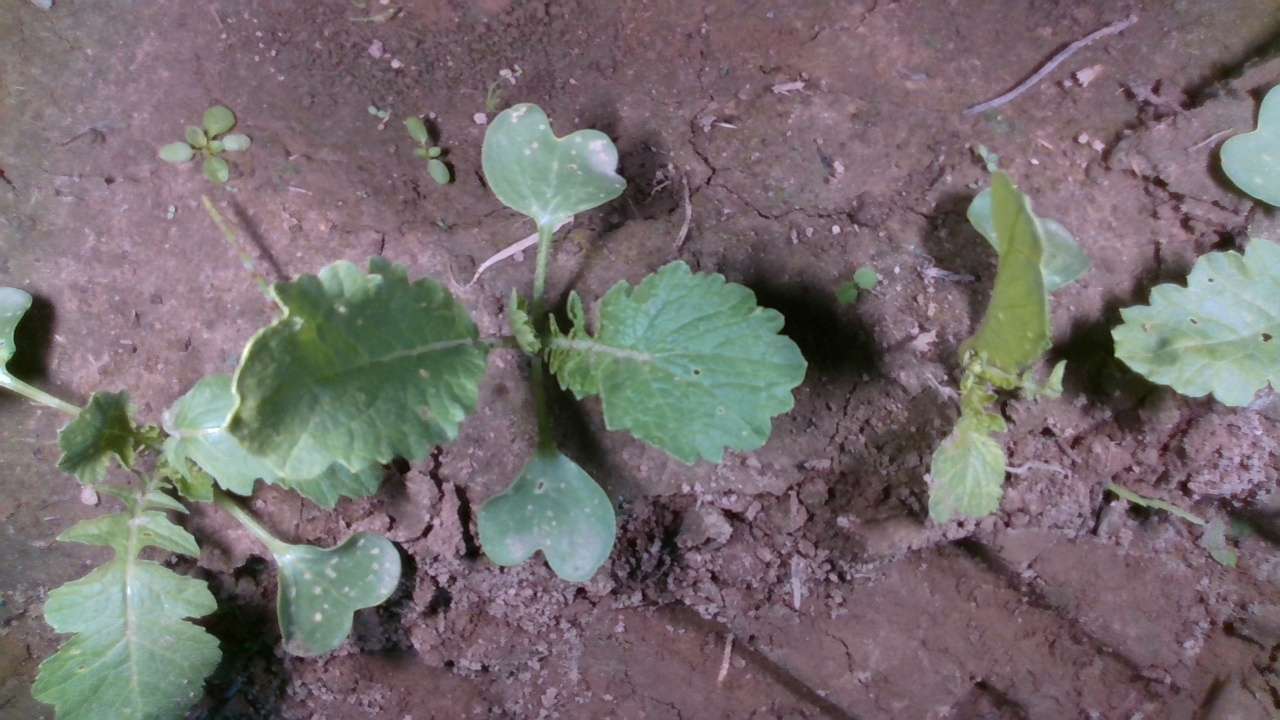weed: (156, 103, 254, 186), (403, 115, 450, 186), (833, 265, 879, 308)
